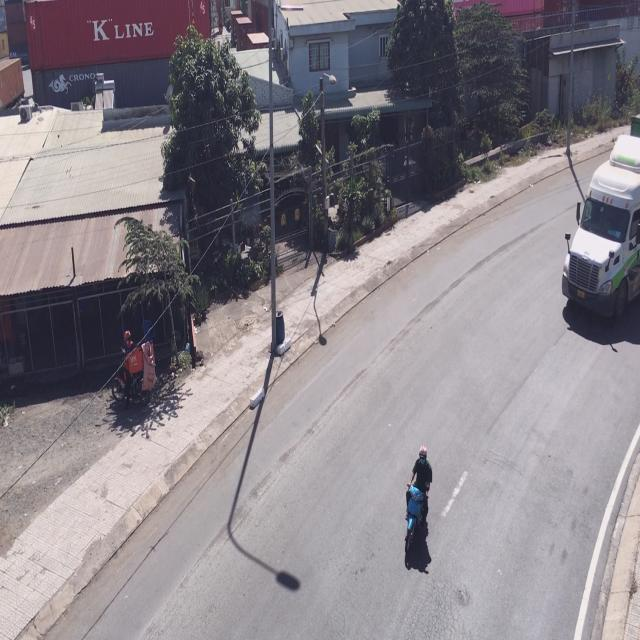motorbike: (404, 447, 432, 569)
truck: (561, 87, 636, 320)
